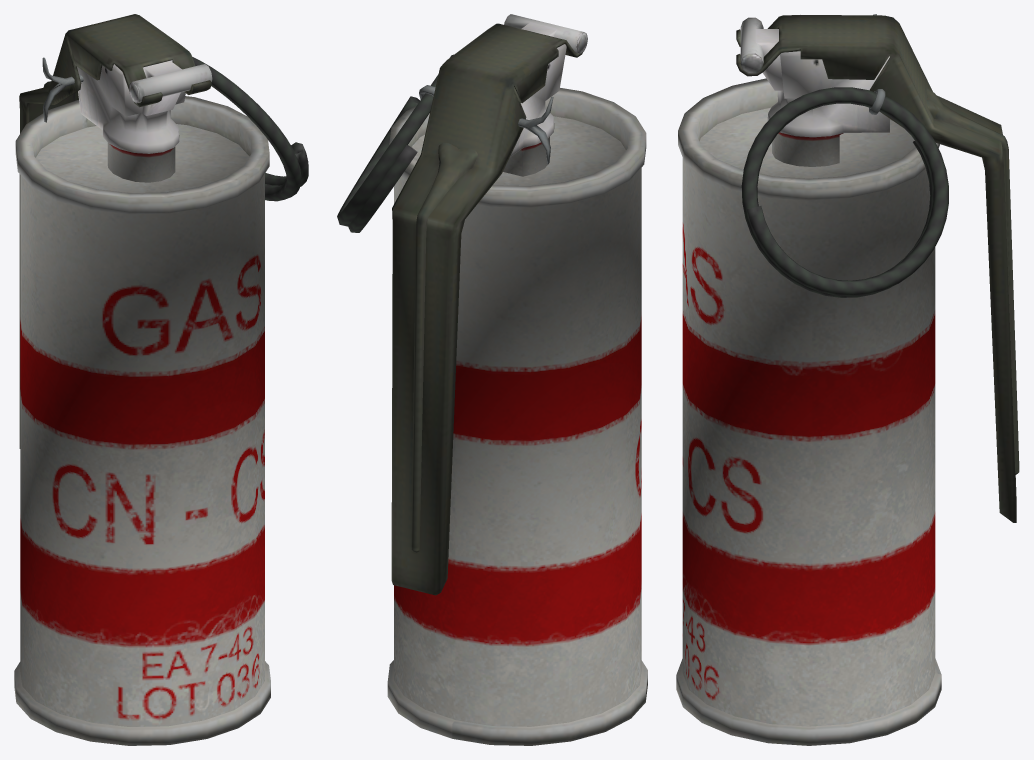
Rendered from Weapons_Grenades_GasGrenade_3P_LOD0.glb.
3 views of the same model, side by side, from view 1: azimuth 30°, elevation 25°; view 2: azimuth 150°, elevation 25°; view 3: azimuth 270°, elevation 25° (orthographic). The views are drawn at different scales.
Parts seen in each view (by area): view 1: Hoodie; view 2: Hoodie; view 3: Hoodie.
Part boxes in pixels (bbox=[...]): Hoodie: bbox=[14, 14, 308, 745]; Hoodie: bbox=[337, 14, 647, 745]; Hoodie: bbox=[676, 14, 1019, 745].
Bounding box in the file's own units: 0.0627 × 0.1447 × 0.0683.
1 material, 1 textured.
